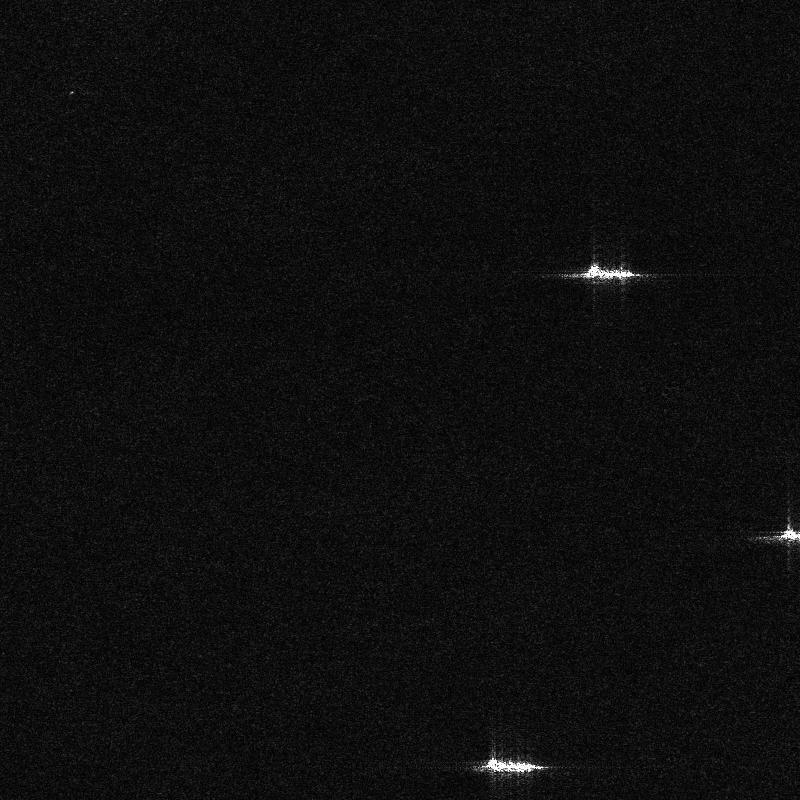ship: (581, 264, 640, 280), (482, 757, 544, 772), (780, 529, 799, 541)
